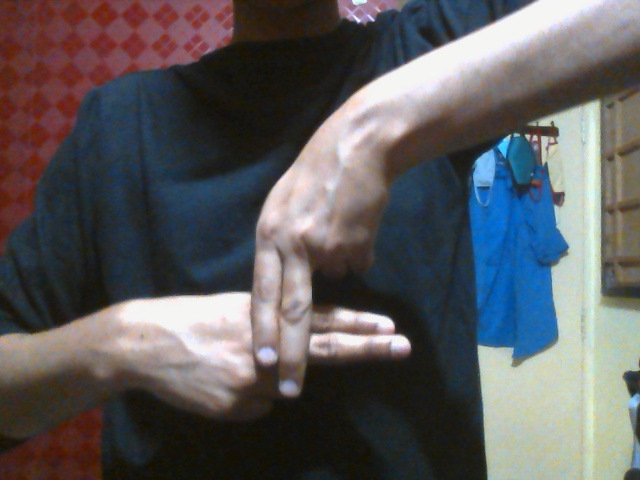F: (136, 143, 414, 425)
